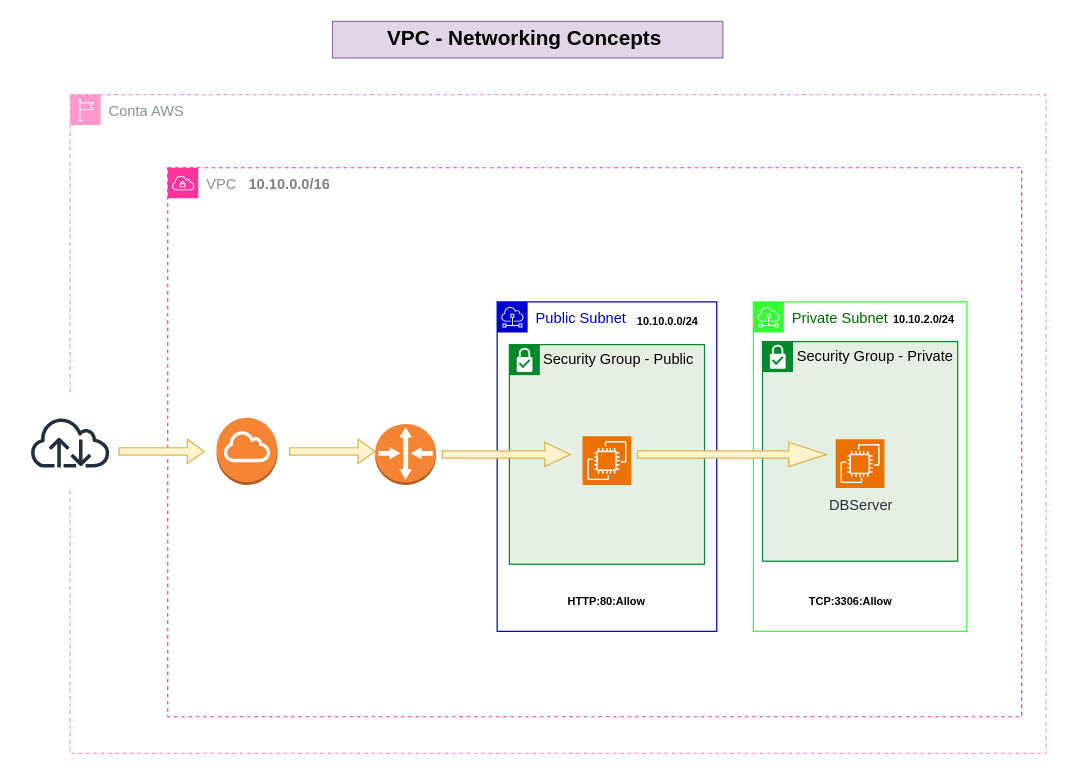
The diagram is 1068 pixels wide and 775 high, and some of its shapes have lost their labels. Each missing label, with the centre of its shape:
Internet: the point at 69,441
Internet Gateway: the point at 246,451
Router: the point at 405,454
WebServer: the point at 606,460
